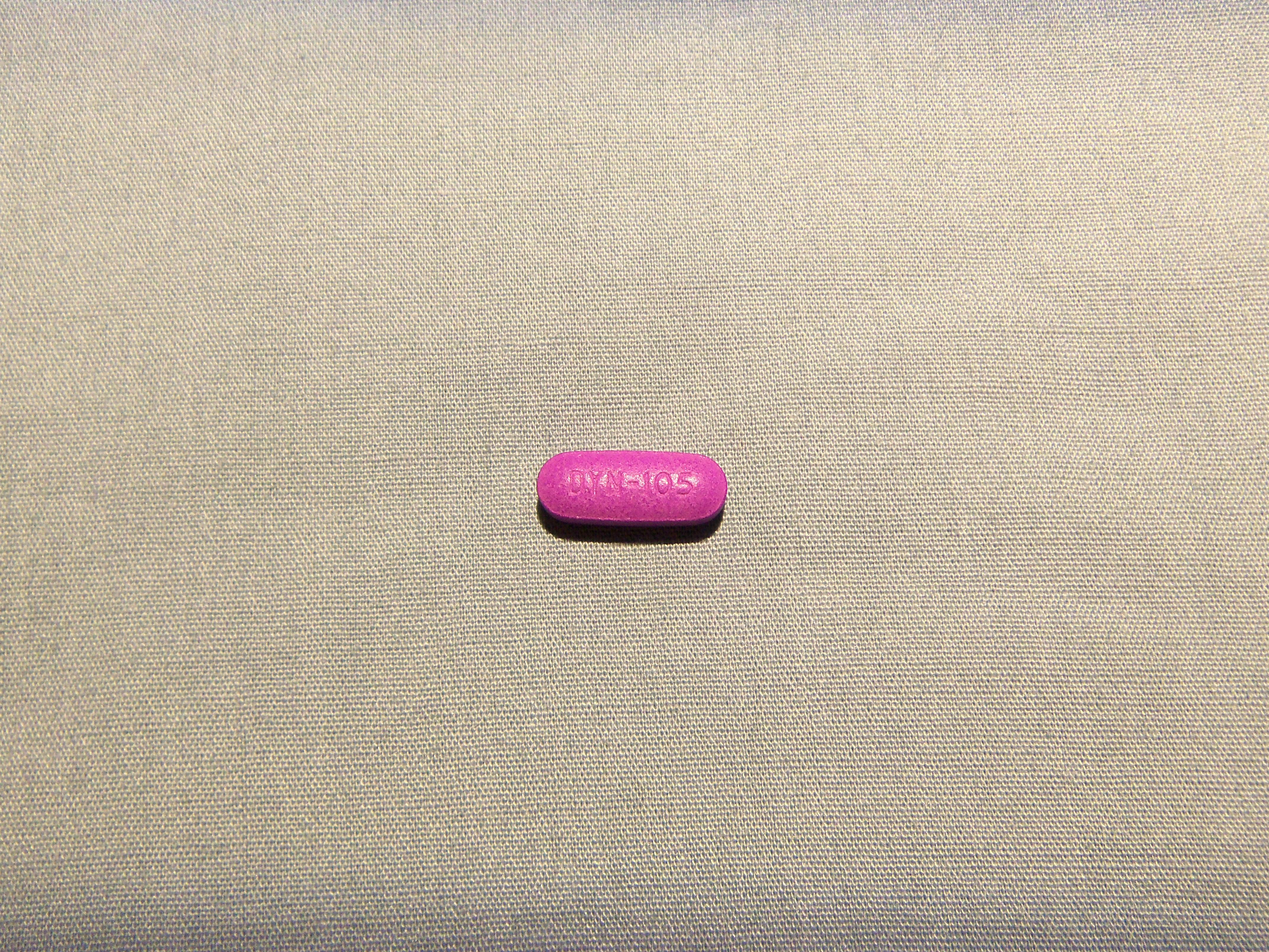Pill: (530, 441, 732, 536)
